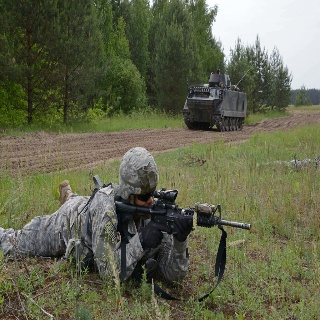rifle: (109, 188, 253, 250)
